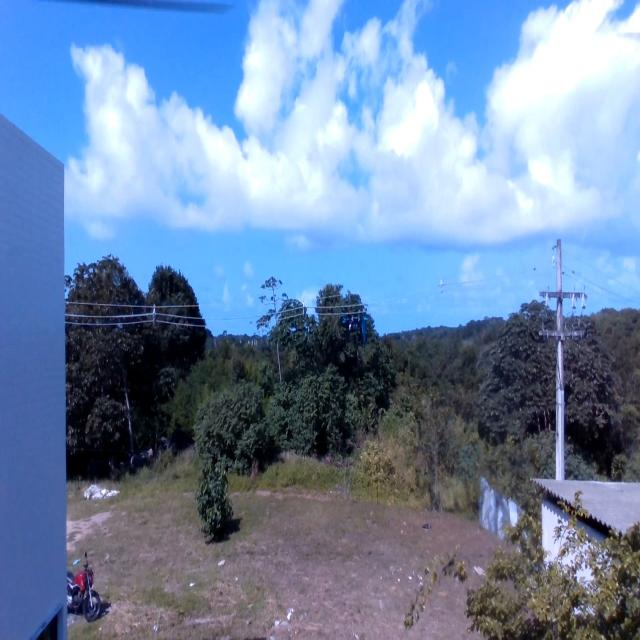-uav-: (340, 301, 374, 363)
